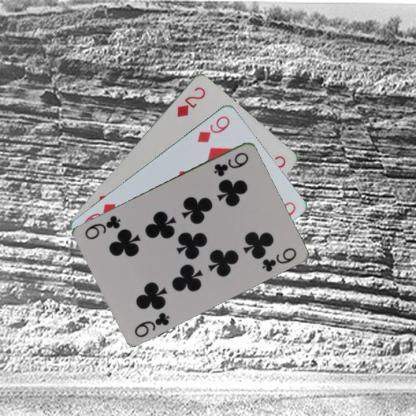2d: (174, 84, 207, 118)
9c: (132, 309, 172, 339), (210, 149, 250, 178)
9d: (194, 113, 231, 144)
